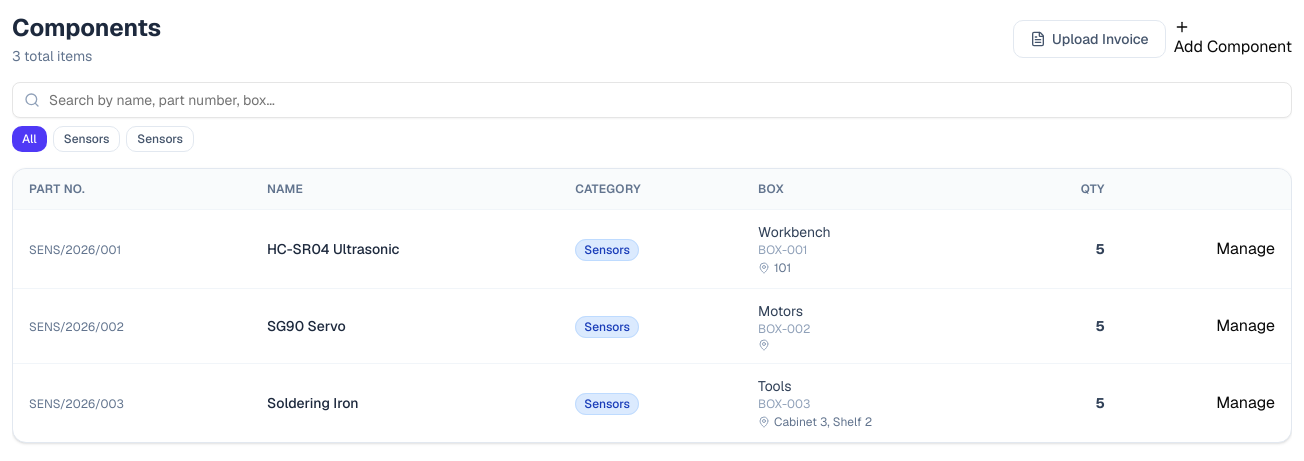
Scenario: ComponentsClient search does not crash the page › can search by a numeric box location that Upstash coerced
Step 1. Type "101" into the field with placeholder "Search by name, part number, box..." → (652,100), box [12, 82, 1292, 118]
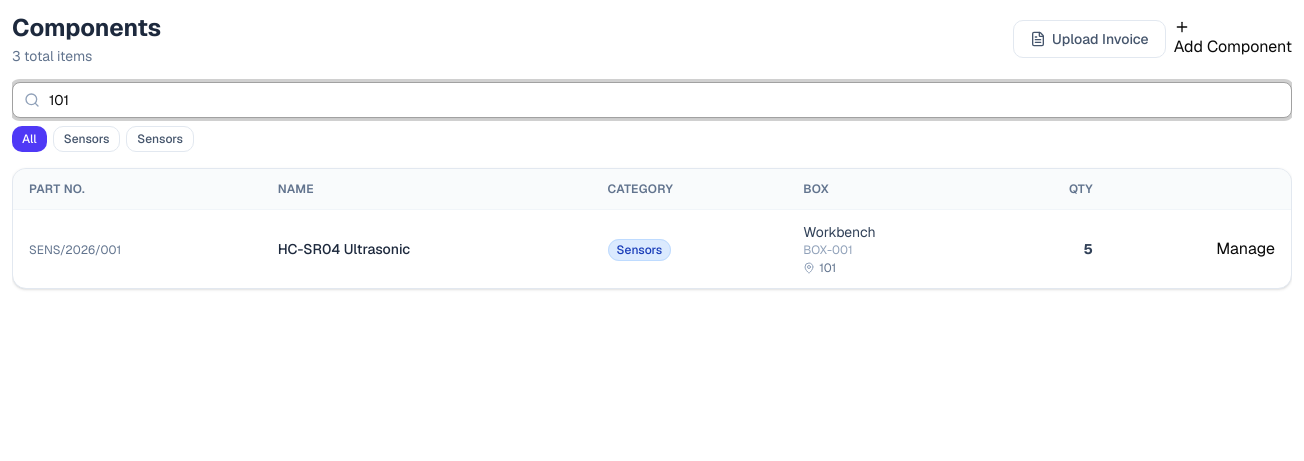
Expected: the text "HC-SR04 Ultrasonic" is shown, [278, 240, 410, 258]
Expected: the text "SG90 Servo" is gone
